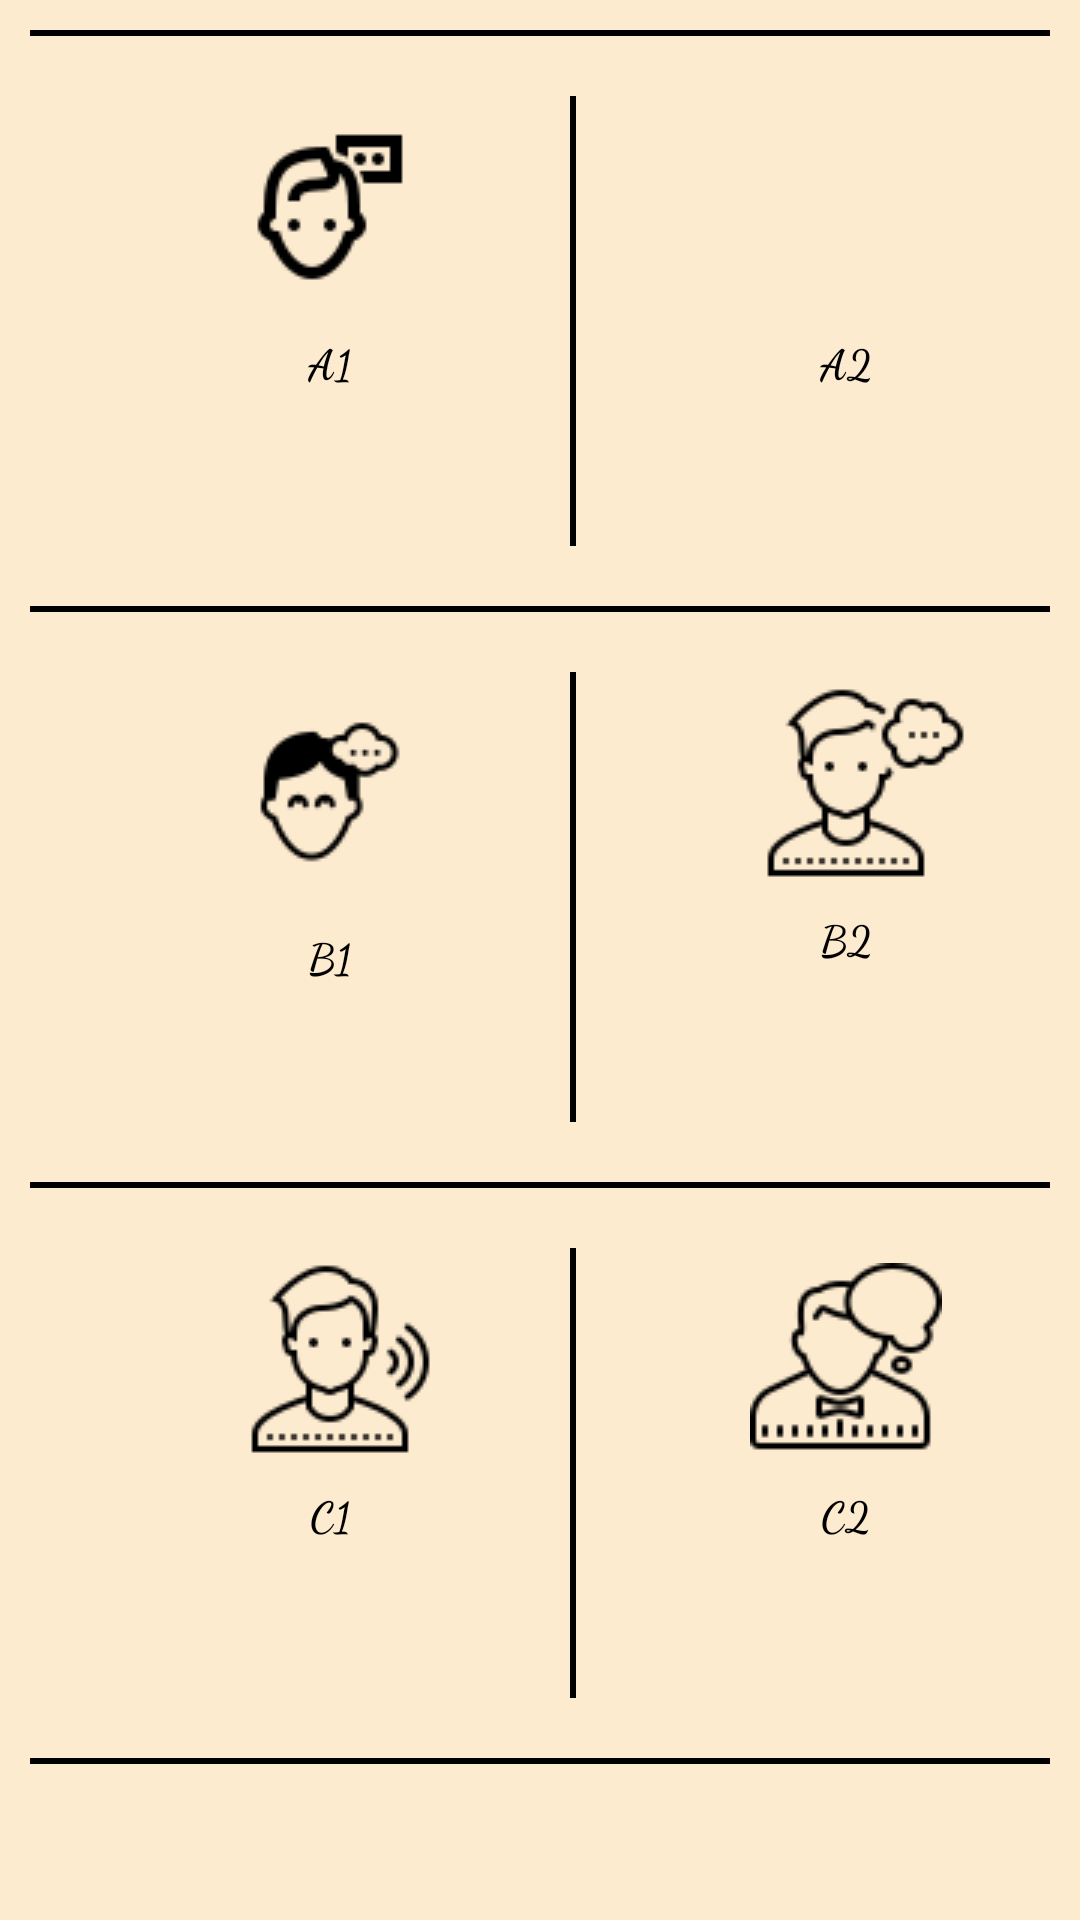

Icons on this 1080×1920 Android screen, each with the point to tap as point (x, y):
chatb: point (330, 792)
chatcc: point (846, 1356)
